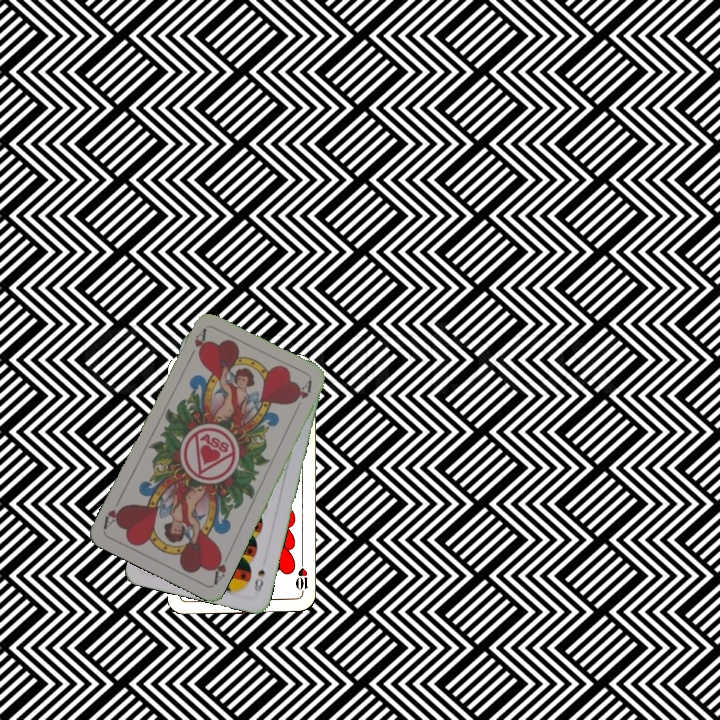H10: (292, 557, 311, 597)
HA: (184, 325, 209, 363), (208, 547, 229, 587)
S8: (250, 565, 268, 597)
